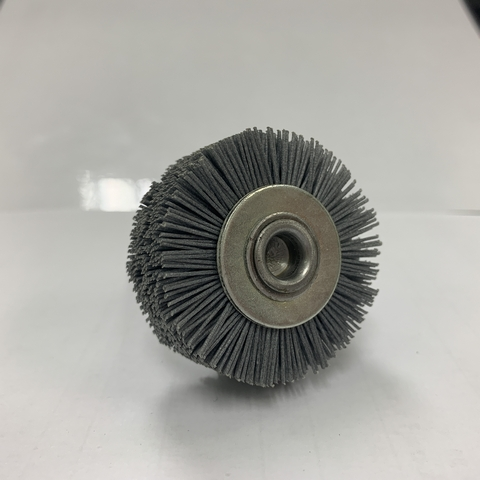Wheel Brush: (124, 123, 390, 386), (142, 138, 391, 385)
